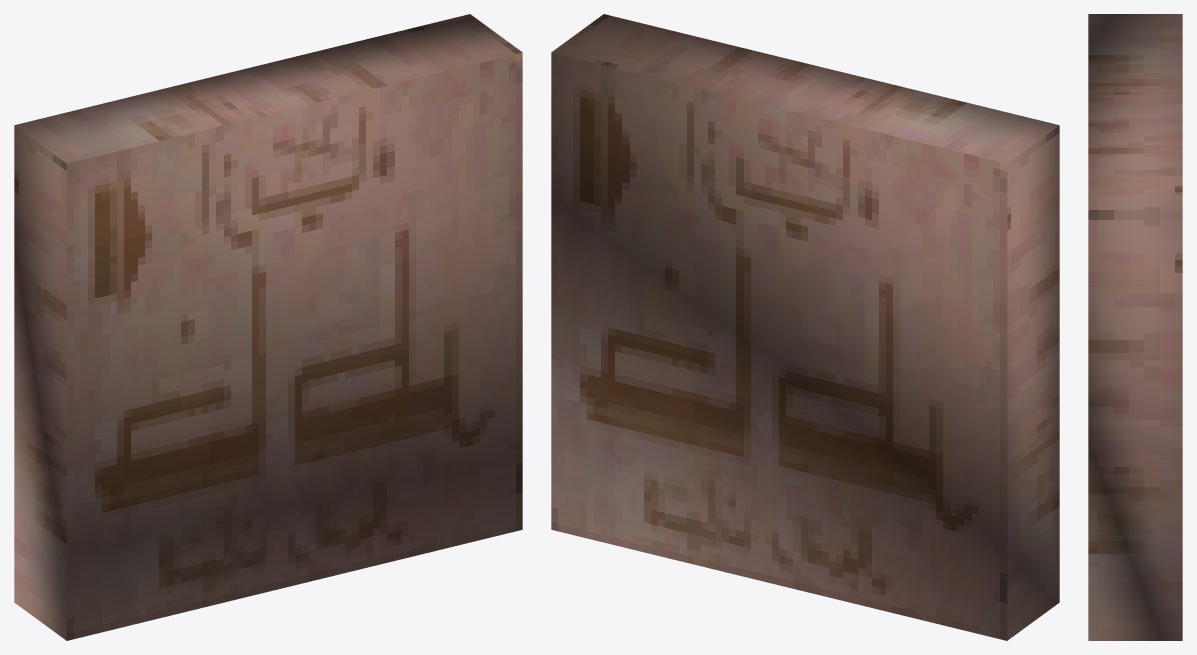
The model's file is M7_Sign01.glb.
3 renders of one model, left to right at view 1: azimuth 30°, elevation 25°; view 2: azimuth 150°, elevation 25°; view 3: azimuth 270°, elevation 25°, orthographic. The views are drawn at different scales.
Visible parts, largest first — view 1: M7_SIGN01; view 2: M7_SIGN01; view 3: M7_SIGN01.
Boxes of the visible parts, box(x1,y1,x2,y2) form: M7_SIGN01: box(14, 14, 522, 640); M7_SIGN01: box(551, 14, 1059, 640); M7_SIGN01: box(1088, 14, 1182, 640).
Bounding box in the file's own units: 0.75 × 0.75 × 0.15.
1 material, 1 textured.
